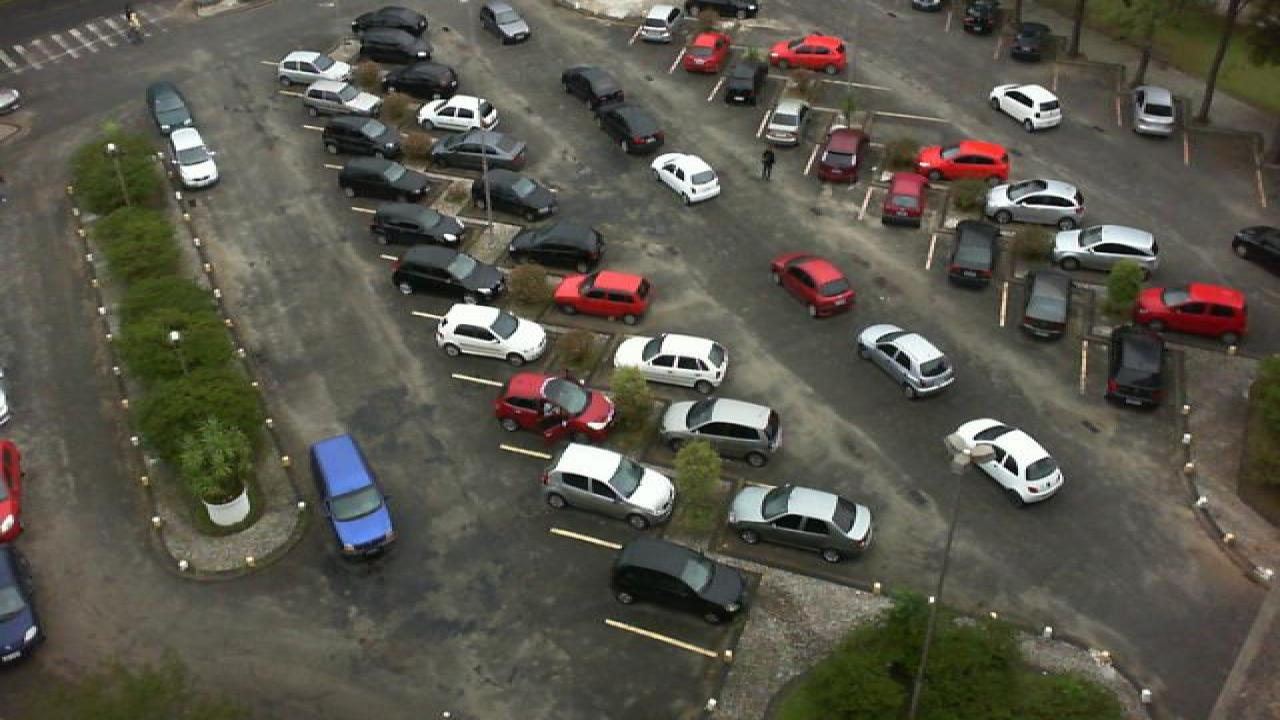Car: (542, 442, 678, 531), (612, 536, 746, 624), (728, 483, 874, 562), (308, 433, 398, 561), (946, 417, 1066, 508), (658, 395, 782, 466), (494, 371, 618, 440), (1132, 280, 1250, 346), (612, 330, 730, 393), (434, 302, 550, 364), (392, 245, 506, 305), (552, 269, 654, 325), (1104, 325, 1168, 413), (982, 179, 1086, 232), (508, 218, 610, 270), (1054, 224, 1160, 274), (370, 202, 468, 248), (916, 140, 1012, 184), (476, 173, 562, 222), (338, 158, 432, 202), (428, 129, 526, 171), (948, 221, 1002, 289), (166, 125, 222, 190), (1020, 271, 1070, 339), (416, 93, 500, 133), (320, 117, 400, 156), (882, 171, 932, 233), (816, 125, 870, 182), (770, 34, 850, 72), (300, 81, 382, 118), (352, 27, 434, 64), (276, 50, 360, 86), (382, 60, 460, 98), (146, 81, 198, 134), (350, 6, 426, 38), (1132, 84, 1178, 135), (718, 63, 770, 107), (682, 29, 732, 74), (760, 99, 806, 146), (1006, 20, 1052, 62), (638, 3, 680, 44), (960, 0, 1000, 36)
